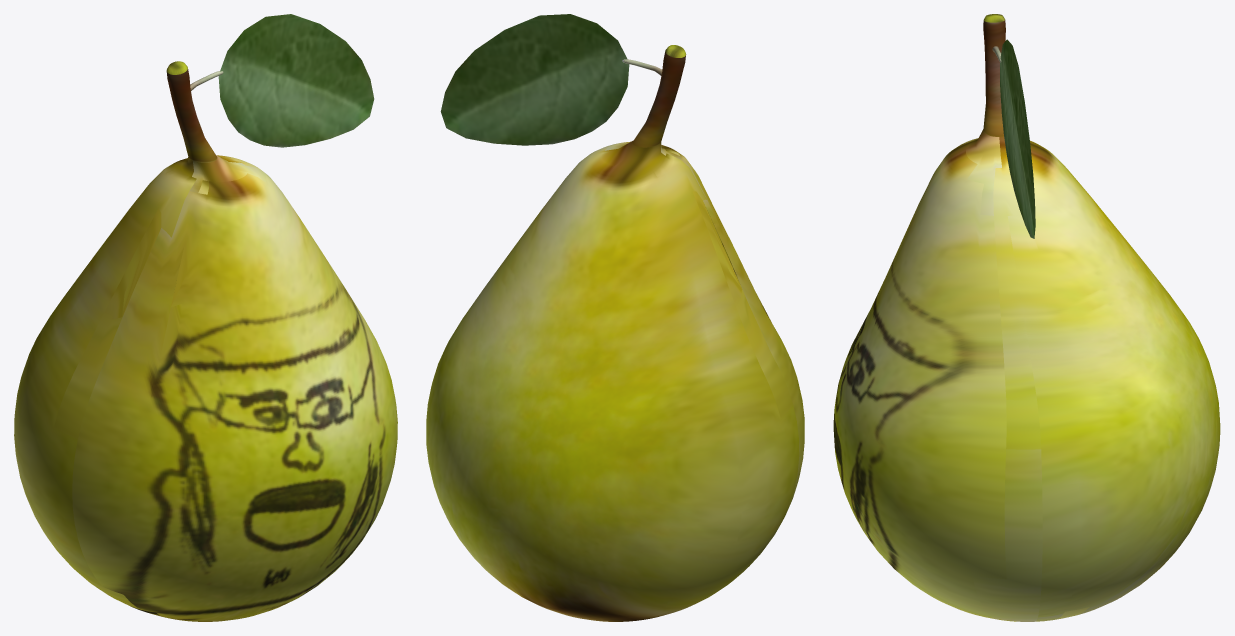
File: braylinPERA3.0.glb
3 renders of one model, left to right at view 1: azimuth 30°, elevation 25°; view 2: azimuth 150°, elevation 25°; view 3: azimuth 270°, elevation 25°, orthographic. The views are drawn at different scales.
Visible parts, largest first — view 1: Cylinder.003; view 2: Cylinder.003; view 3: Cylinder.003.
Part boxes in pixels (<box>): Cylinder.003: <box>14,14,397,621</box>; Cylinder.003: <box>426,14,804,621</box>; Cylinder.003: <box>833,14,1220,621</box>.
Size of the model in its own units: 1.6 by 2.62 by 1.57.
Materials: 2 (2 with a texture image).
